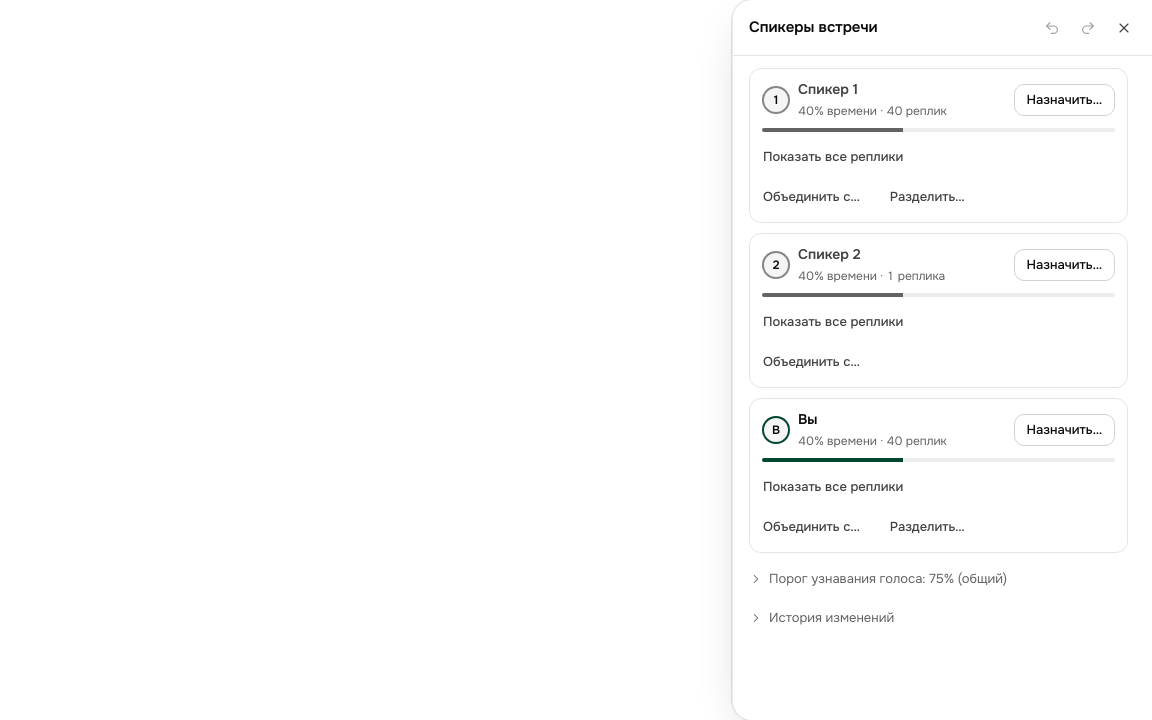
Scenario: похожие голоса групп — предупреждение, что это, скорее всего, один человек
Click the button "Разделить…" below "Спикер 1" at [927, 196], box [877,180,978,212]
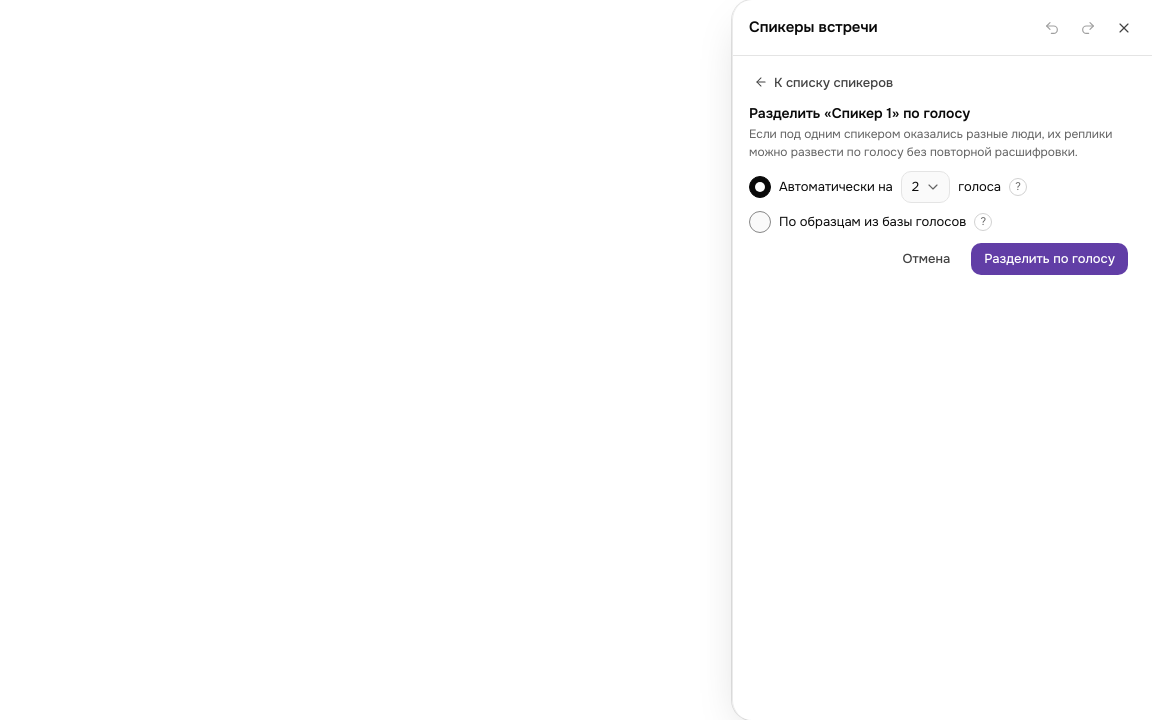
Click the button "Разделить по голосу" at [1050, 259], box [971,243,1128,275]
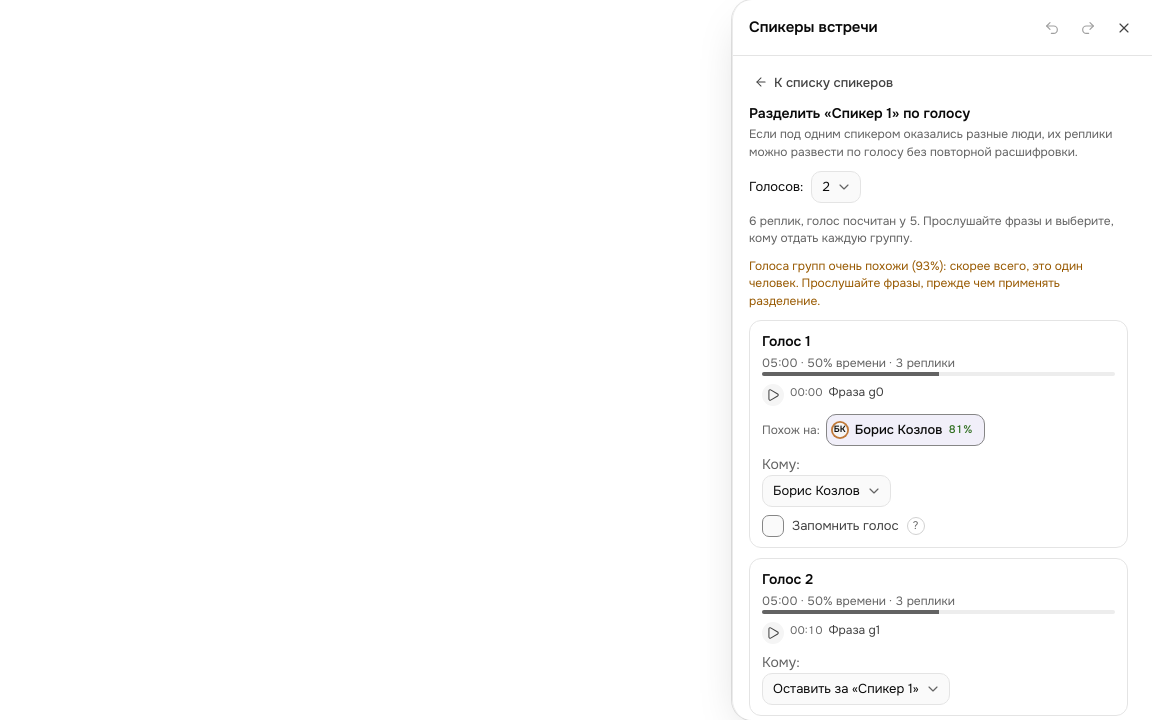
Check: the text "Голоса групп очень похожи (93%): скорее всего, это один человек" is shown, box [749,258,1128,310]
